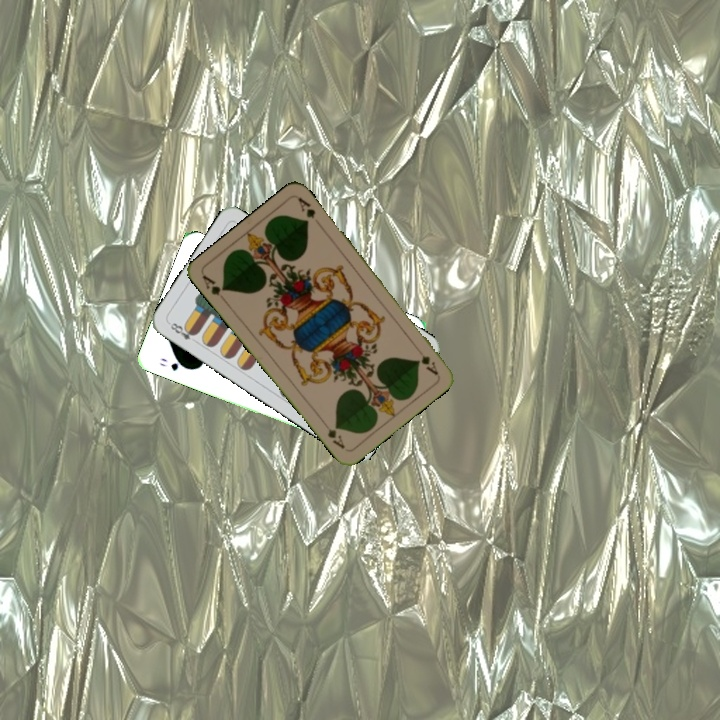E8: (165, 318, 200, 346)
GA: (198, 271, 230, 305), (417, 351, 441, 378)
GO: (156, 354, 192, 373)
